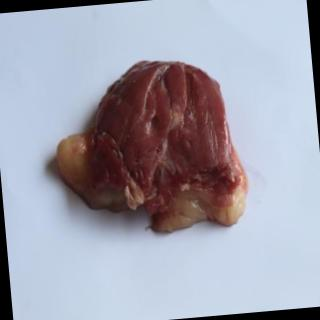Daging Sapi: (50, 53, 253, 246)
